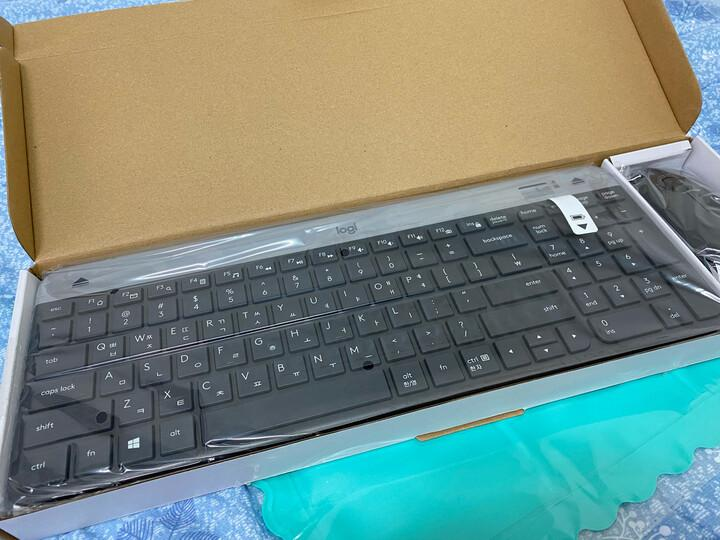keyboard: (2, 175, 719, 511)
